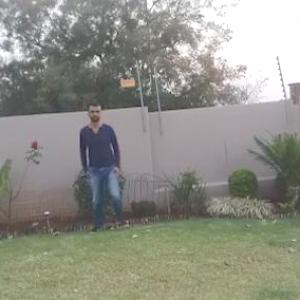follow: (73, 100, 121, 234)
